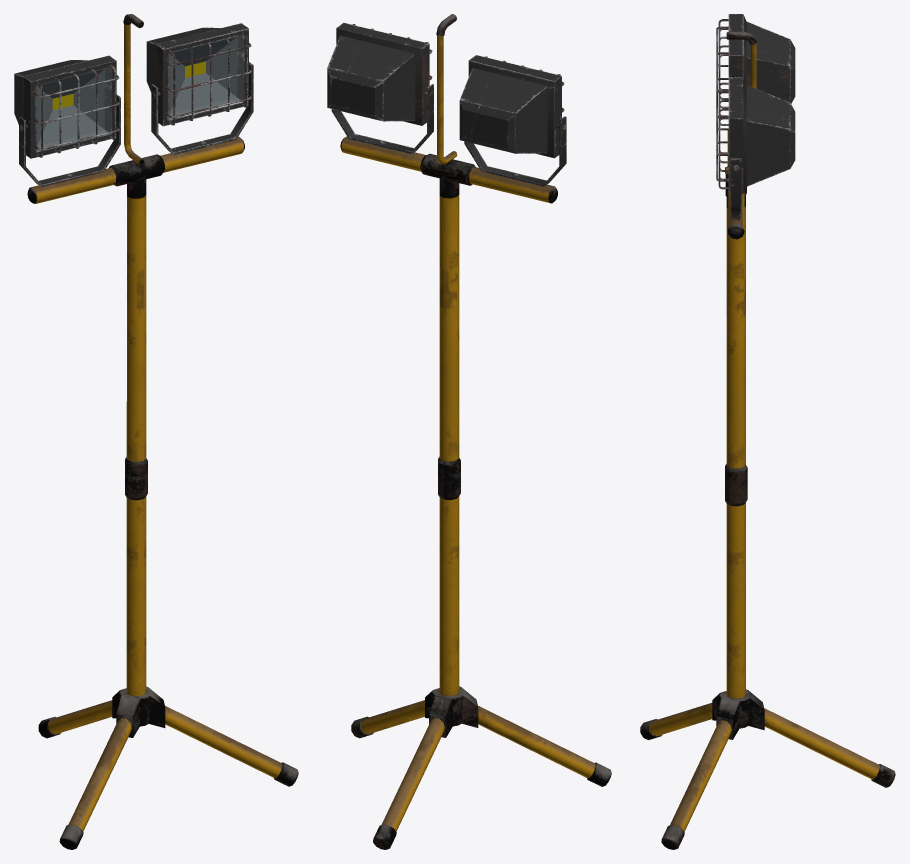
Rendered from flood_light_02.glb.
3 views of the same model, side by side, from view 1: azimuth 30°, elevation 25°; view 2: azimuth 150°, elevation 25°; view 3: azimuth 270°, elevation 25° (orthographic).
Visible parts, largest first — view 1: Cube; view 2: Cube; view 3: Cube.
Part boxes in pixels (left/top/right/bottom): Cube: left=14, top=14, right=298, bottom=849; Cube: left=327, top=14, right=611, bottom=849; Cube: left=640, top=14, right=895, bottom=849.
Bounding box in the file's own units: 0.4077 × 1.22 × 0.3711.
Materials: 1 (1 with a texture image).
